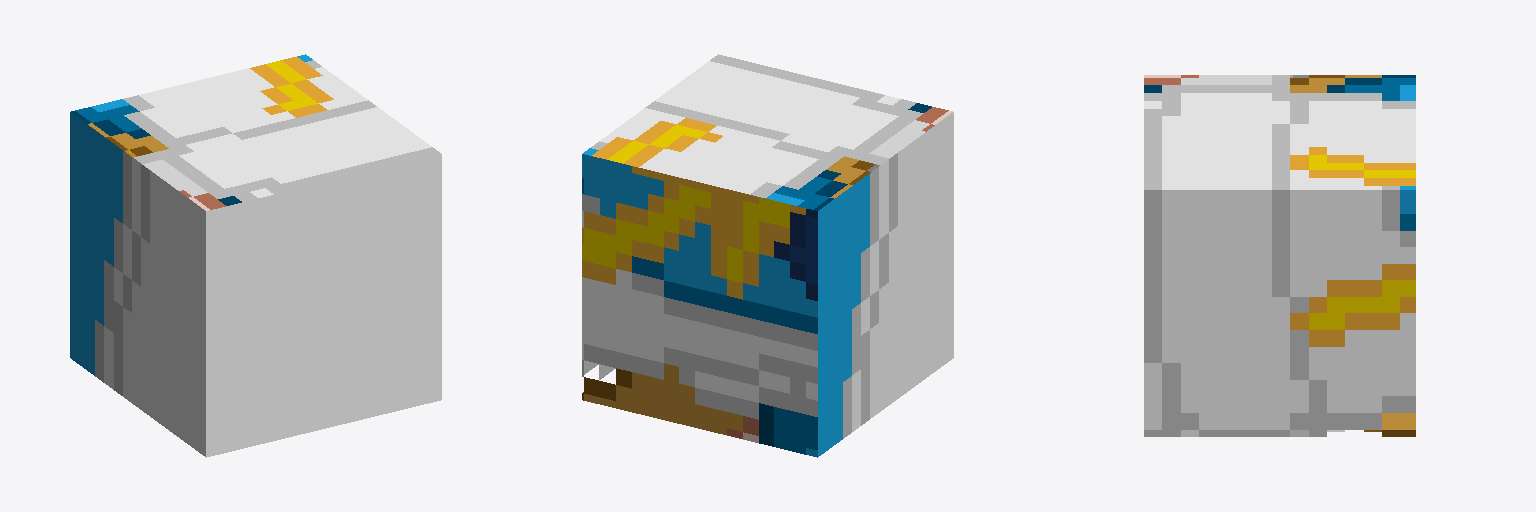
3 renders of one model, left to right at view 1: azimuth 30°, elevation 25°; view 2: azimuth 150°, elevation 25°; view 3: azimuth 270°, elevation 25°, orthographic.
Visible parts, largest first — view 1: Cube; view 2: Cube; view 3: Cube.
Part boxes in pixels (left/top/right/bottom): Cube: left=70, top=54, right=441, bottom=457; Cube: left=582, top=54, right=953, bottom=457; Cube: left=1144, top=75, right=1415, bottom=436.
Bounding box in the file's own units: 2 × 2 × 2.
Materials: 1 (1 with a texture image).